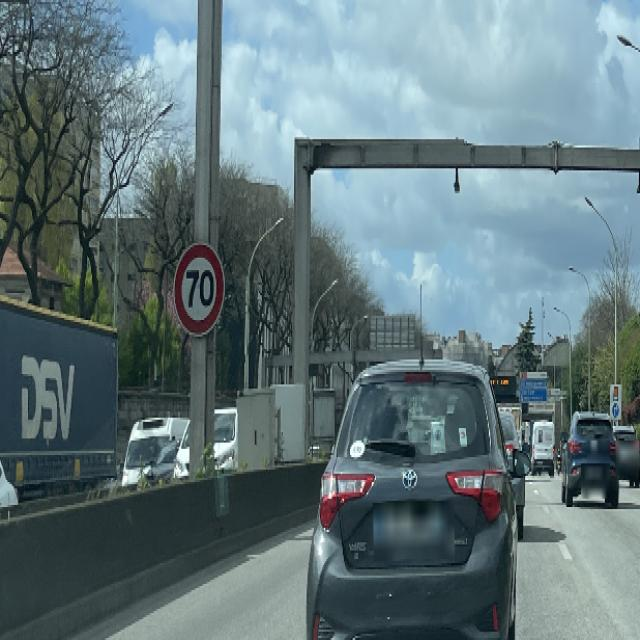speed_70: (173, 241, 226, 340)
